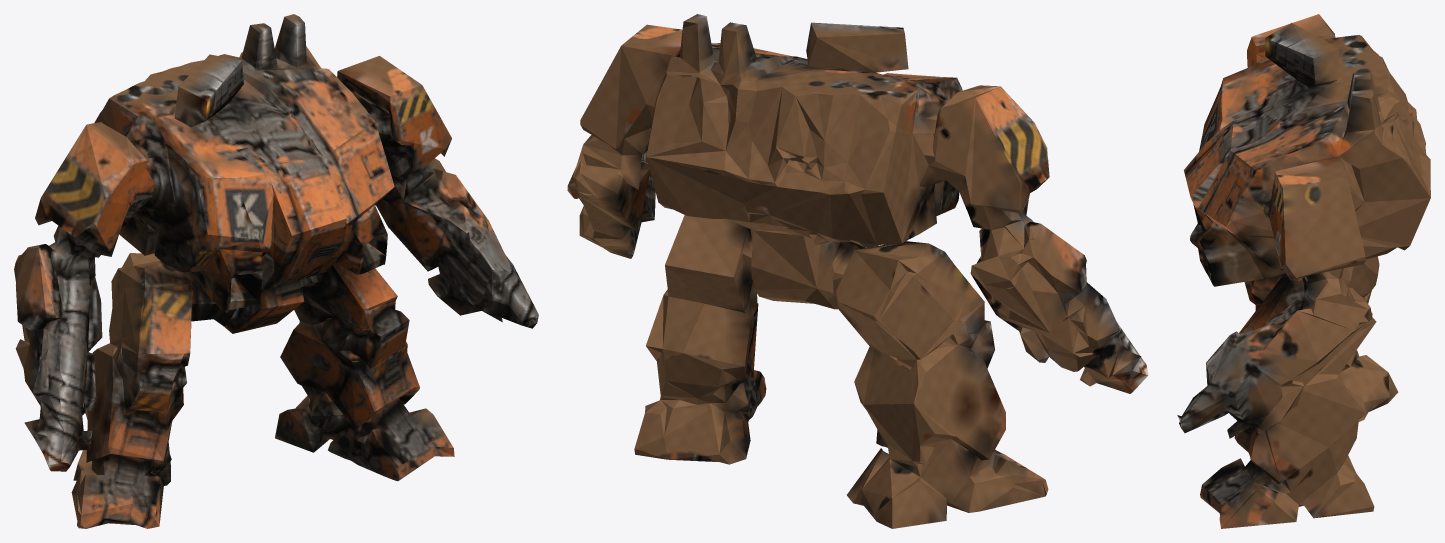
Rendered from commander_lod2.glb.
3 renders of one model, left to right at view 1: azimuth 30°, elevation 25°; view 2: azimuth 150°, elevation 25°; view 3: azimuth 270°, elevation 25°, orthographic. The views are drawn at different scales.
Visible parts, largest first — view 1: KorrCommander; view 2: KorrCommander; view 3: KorrCommander.
Part boxes in pixels (x1=…): KorrCommander: x1=14, y1=14, x2=538, y2=528; KorrCommander: x1=567, y1=14, x2=1148, y2=528; KorrCommander: x1=1177, y1=14, x2=1430, y2=528.
Bounding box in the file's own units: 1.99 × 1.6 × 0.9252.
Materials: 1 (1 with a texture image).
